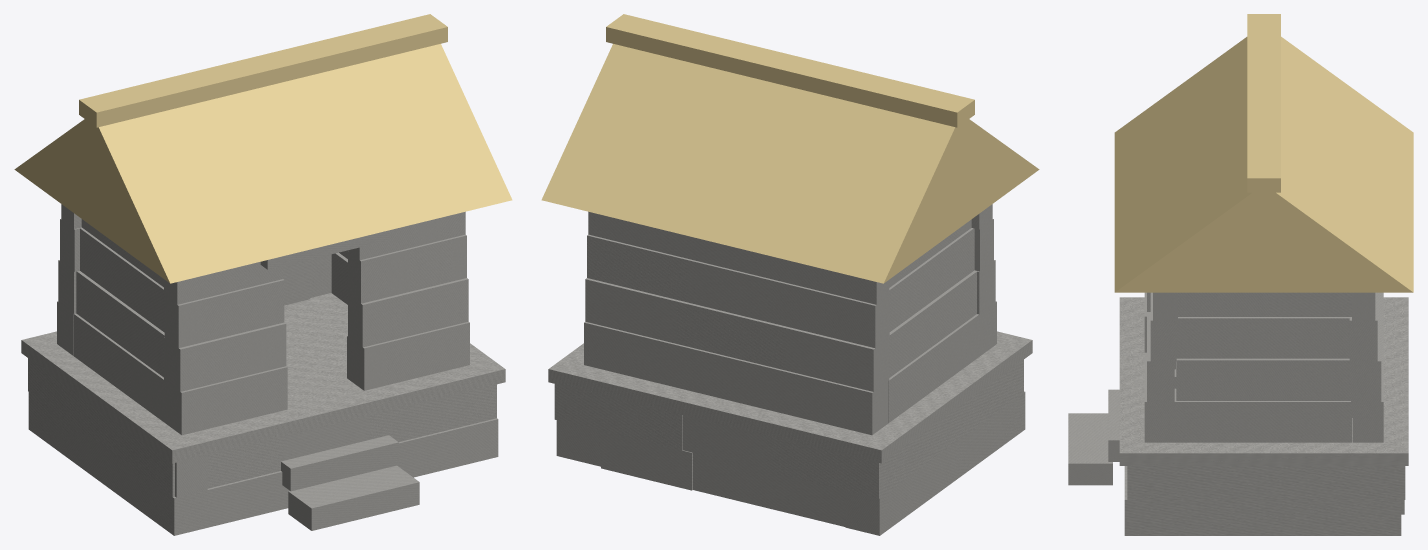
File: andean-terraces-and-stone-village-raised-storehouse-9c0bb06f__38251.glb
3 renders of one model, left to right at view 1: azimuth 30°, elevation 25°; view 2: azimuth 150°, elevation 25°; view 3: azimuth 270°, elevation 25°, orthographic. The views are drawn at different scales.
Parts seen in each view (by area): view 1: raised-storehouse-stone, raised-storehouse-thatch; view 2: raised-storehouse-stone, raised-storehouse-thatch; view 3: raised-storehouse-stone, raised-storehouse-thatch.
Boxes of the visible parts, x1,y1,x2,y2 form: raised-storehouse-stone: (21, 204, 505, 535); raised-storehouse-thatch: (14, 14, 512, 283); raised-storehouse-stone: (548, 204, 1032, 535); raised-storehouse-thatch: (541, 14, 1039, 283); raised-storehouse-stone: (1068, 292, 1408, 535); raised-storehouse-thatch: (1114, 14, 1413, 292).
Size of the model in its own units: 3.9 by 4.03 by 3.47.
Materials: 2 (1 with a texture image).
